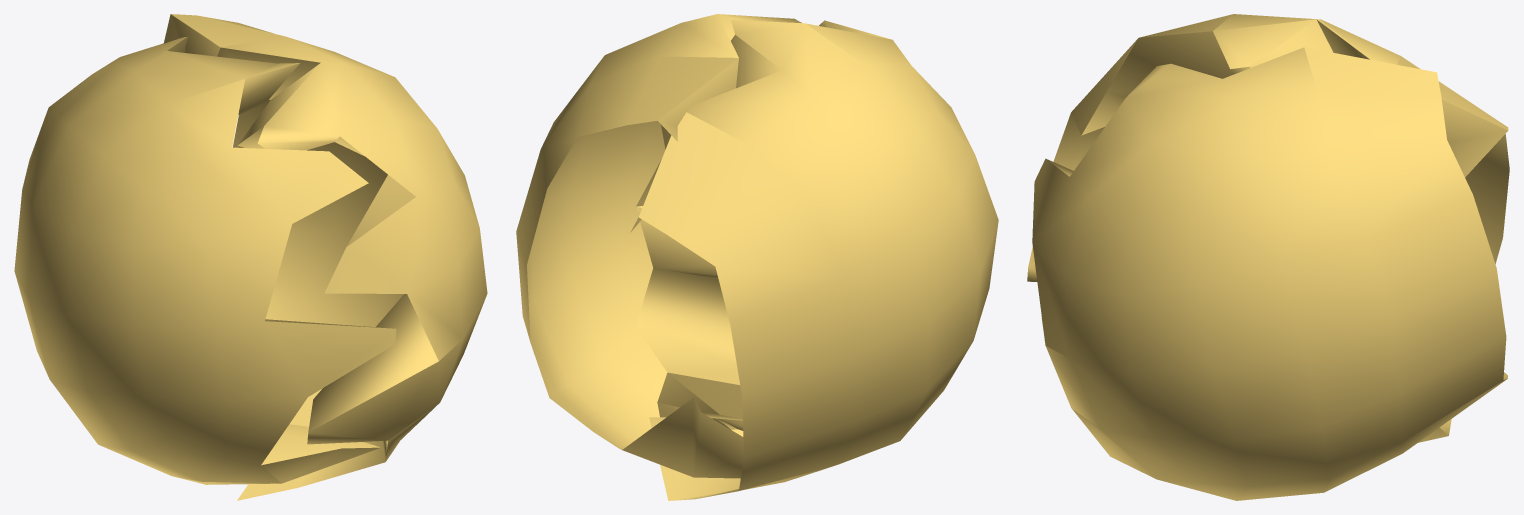
File: monster_plant_mouth.fbx
The picture shows the model from 3 angles, left to right: view 1: azimuth 30°, elevation 25°; view 2: azimuth 150°, elevation 25°; view 3: azimuth 270°, elevation 25°; orthographic projection. The views are drawn at different scales.
Parts seen in each view (by area): view 1: monster_plant_1:Layer6; view 2: monster_plant_1:Layer6; view 3: monster_plant_1:Layer6.
Boxes of the visible parts, <box> form: monster_plant_1:Layer6: <box>14,14,487,500</box>; monster_plant_1:Layer6: <box>516,14,998,500</box>; monster_plant_1:Layer6: <box>1027,14,1509,500</box>.
Size of the model in its own units: 200 by 199 by 204.
